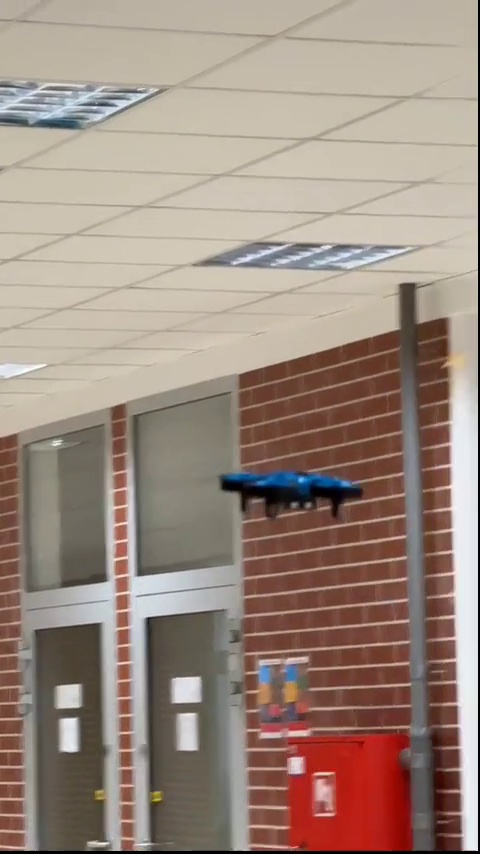drone: (214, 465, 368, 520)
